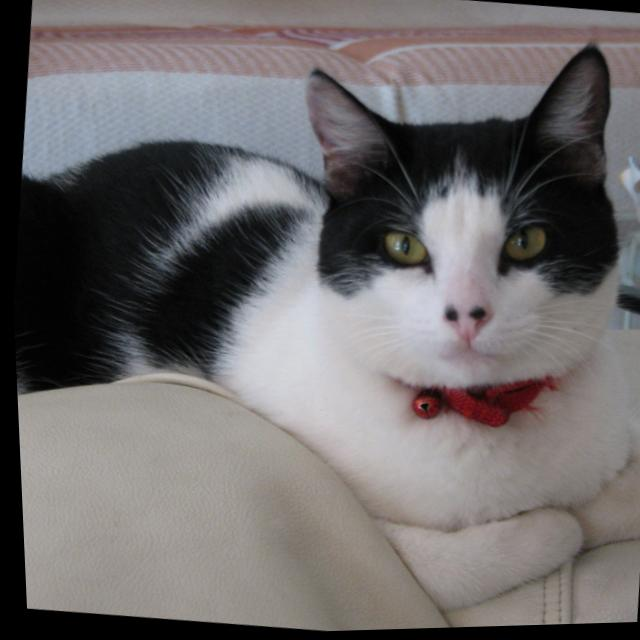animals: (286, 18, 618, 358)
